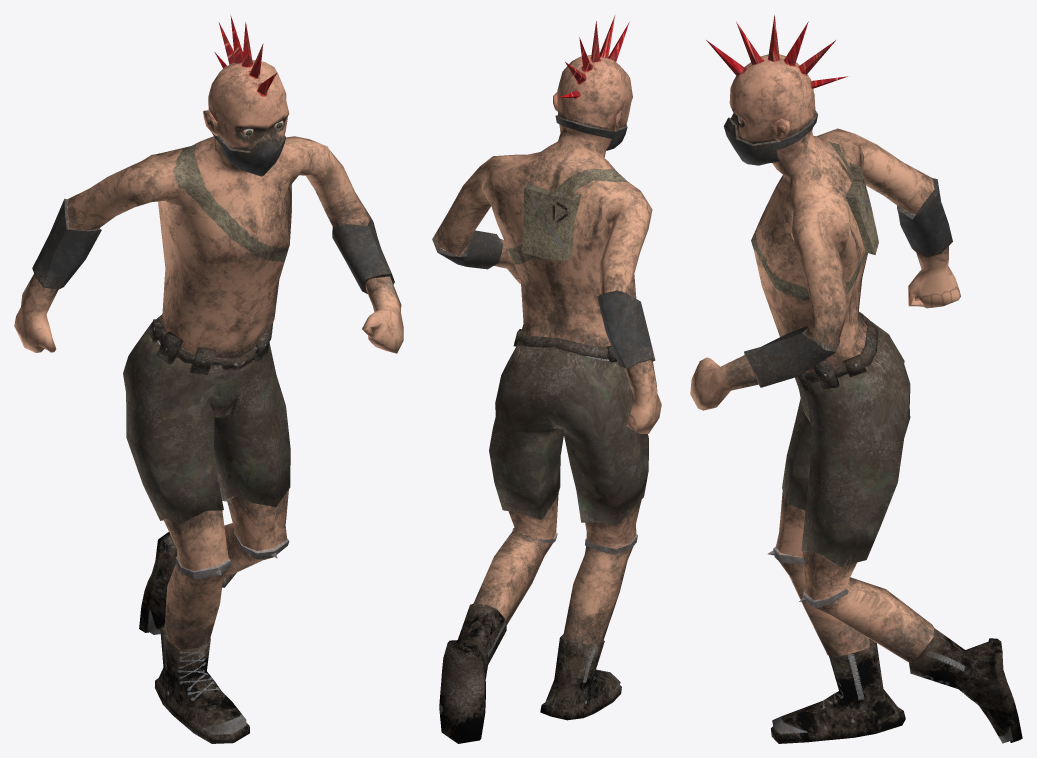
File: Anim_correr_npc2.0032.obj
3 renders of one model, left to right at view 1: azimuth 30°, elevation 25°; view 2: azimuth 150°, elevation 25°; view 3: azimuth 270°, elevation 25°, orthographic. The views are drawn at different scales.
Visible parts, largest first — view 1: Anim_correr_npc2; view 2: Anim_correr_npc2; view 3: Anim_correr_npc2.
Boxes of the visible parts, box(x1,y1,x2,y2) form: Anim_correr_npc2: box(14, 15, 403, 743); Anim_correr_npc2: box(432, 15, 661, 743); Anim_correr_npc2: box(690, 15, 1022, 743).
Bounding box in the file's own units: 4.24 × 9.82 × 4.06.
